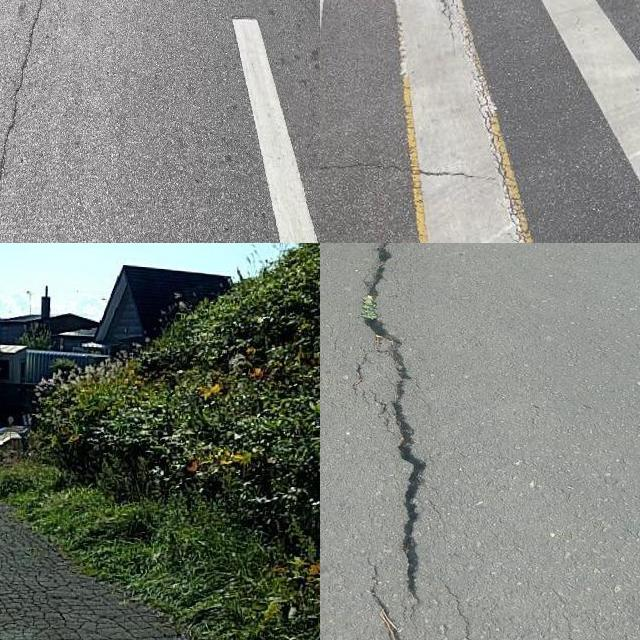Melintang: (320, 156, 499, 190)
Memanjang: (355, 243, 439, 616), (0, 0, 55, 243)
